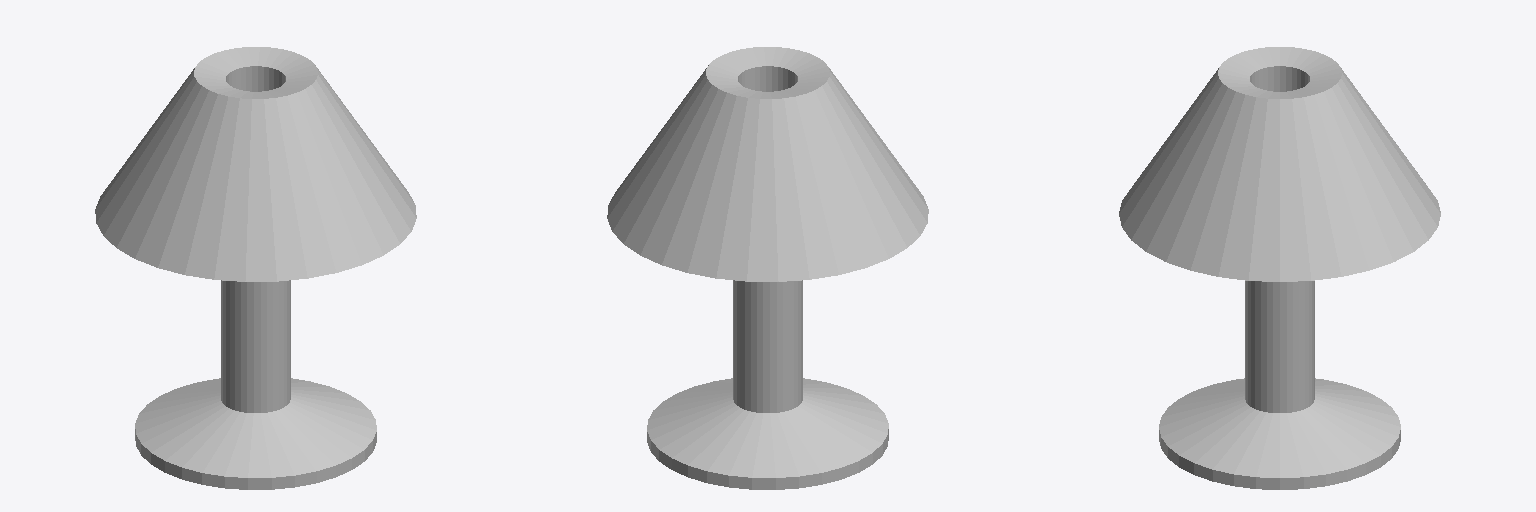
File: Lamp.obj
3 views of the same model, side by side, from view 1: azimuth 30°, elevation 25°; view 2: azimuth 150°, elevation 25°; view 3: azimuth 270°, elevation 25° (orthographic).
Parts seen in each view (by area): view 1: Cylinder; view 2: Cylinder; view 3: Cylinder.
Boxes of the visible parts, x1=… form: Cylinder: x1=95, y1=47, x2=416, y2=489; Cylinder: x1=607, y1=47, x2=928, y2=489; Cylinder: x1=1119, y1=47, x2=1440, y2=489.
Bounding box in the file's own units: 5.8 × 7.27 × 5.8.